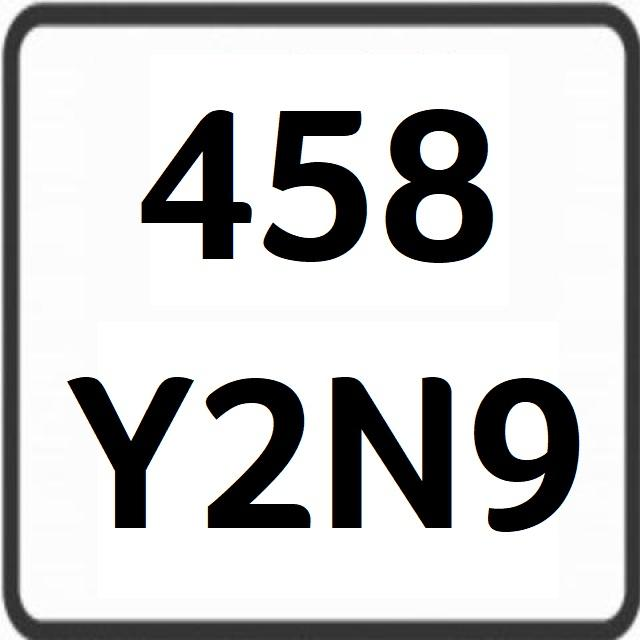2: (205, 375, 312, 531)
4: (138, 107, 255, 269)
5: (263, 100, 370, 270)
8: (382, 104, 498, 271)
9: (472, 372, 586, 538)
N: (326, 365, 457, 536)
Y: (65, 362, 197, 536)
